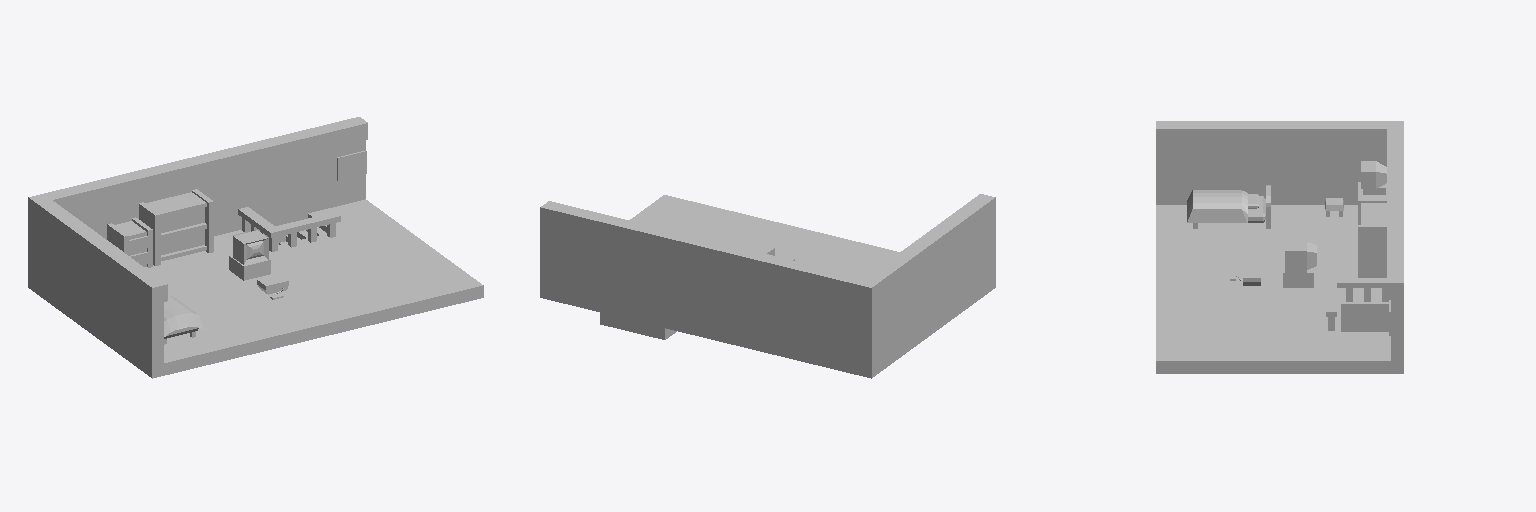
Rendered from room.obj.
3 renders of one model, left to right at view 1: azimuth 30°, elevation 25°; view 2: azimuth 150°, elevation 25°; view 3: azimuth 270°, elevation 25°, orthographic.
Visible parts, largest first — view 1: firered_room; view 2: firered_room; view 3: firered_room.
Boxes of the visible parts, box(x1,y1,x2,y2) form: firered_room: box(28, 117, 483, 378); firered_room: box(540, 194, 995, 378); firered_room: box(1156, 121, 1403, 373).
Bounding box in the file's own units: 11.38 × 3.53 × 7.38.